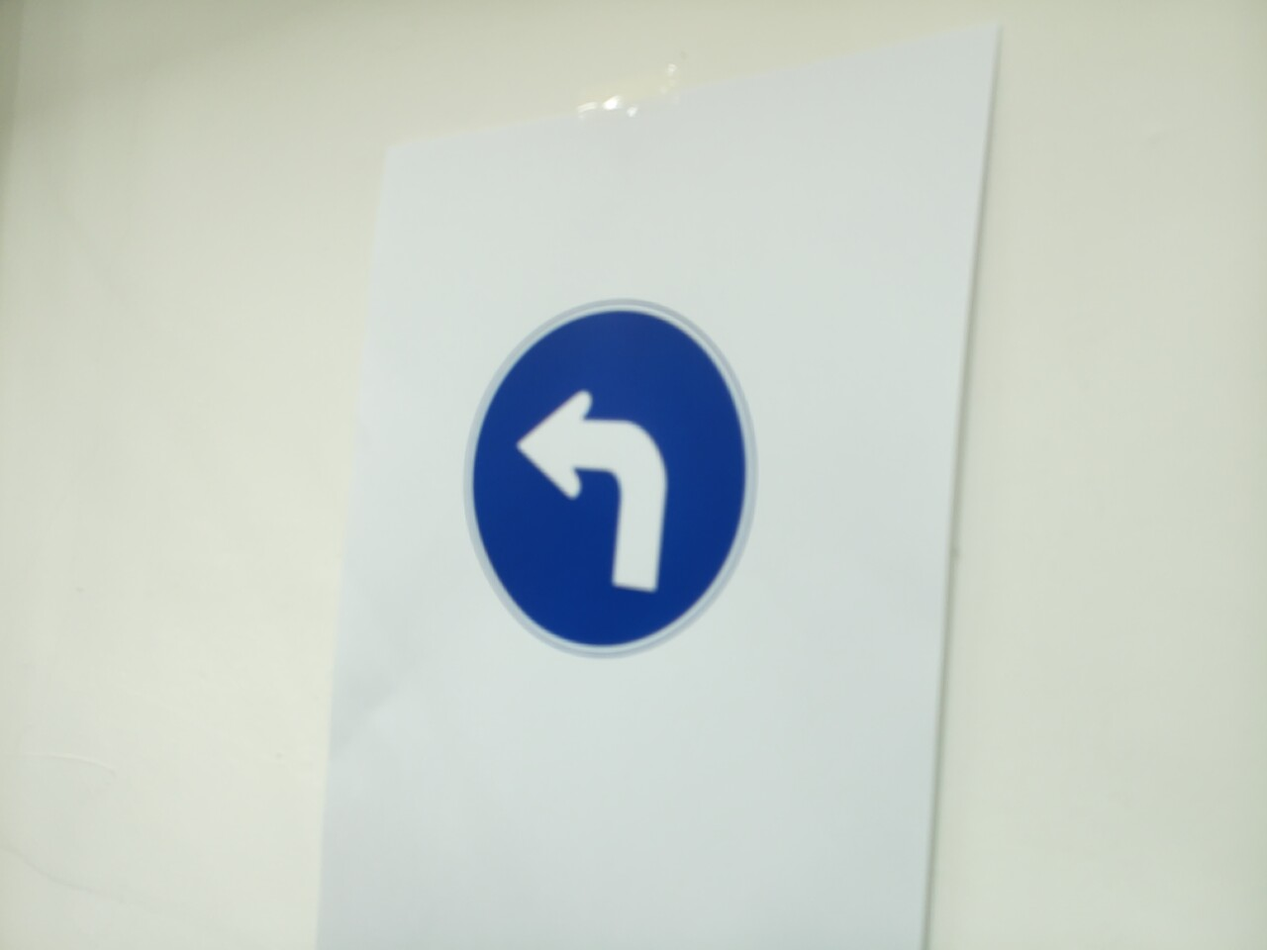left_turn: (464, 301, 754, 656)
